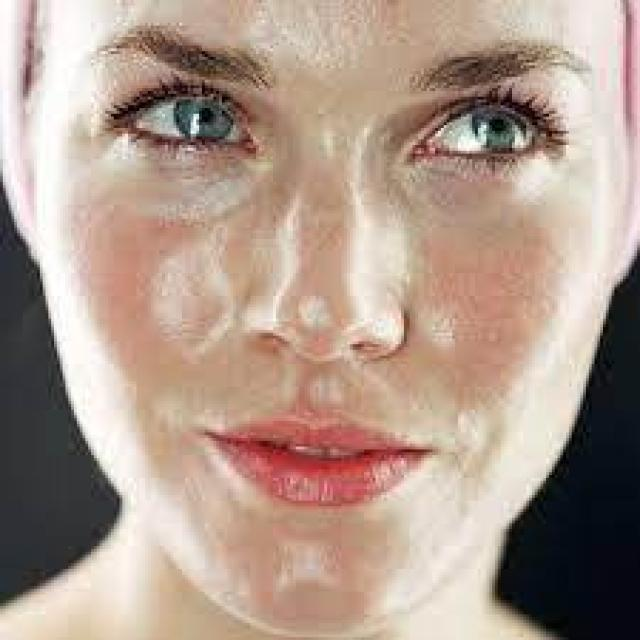Oily-Skin: (105, 0, 573, 547)
